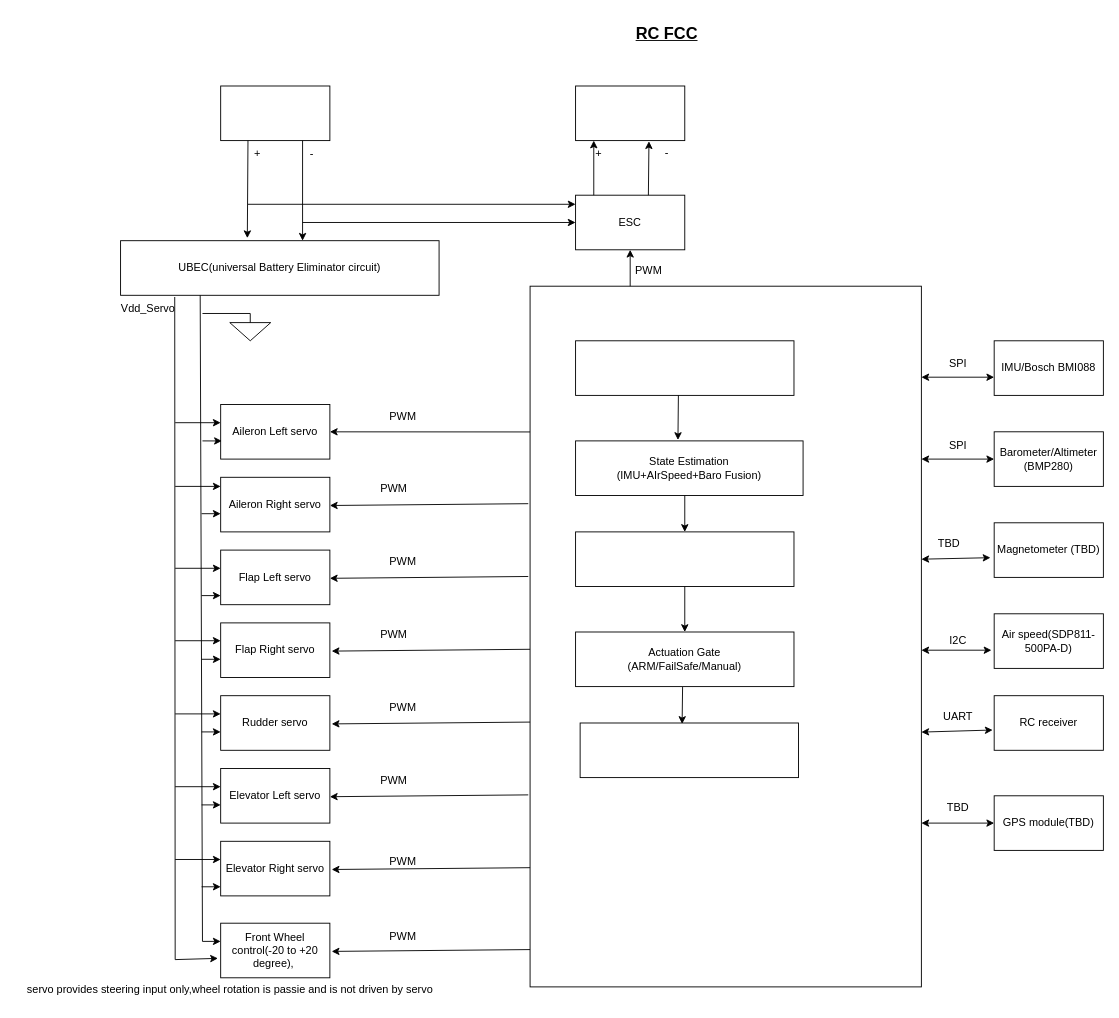
This 1119x1018 diagram has some shape labels left out. The box of each missing label's shape, as (x1, y1, x2, y2) in pixels:
Battery: (220, 85, 330, 141)
Brushless Motor(For trust): (575, 85, 685, 141)
Control Laws(STOL logic/limits/modes): (575, 531, 794, 586)
Cyclic Execution(ARINC -653 Style): (575, 340, 794, 395)
PWM outputs (AIL_L/AIL_R/Elevator/rudder/Flaps): (579, 722, 799, 778)
